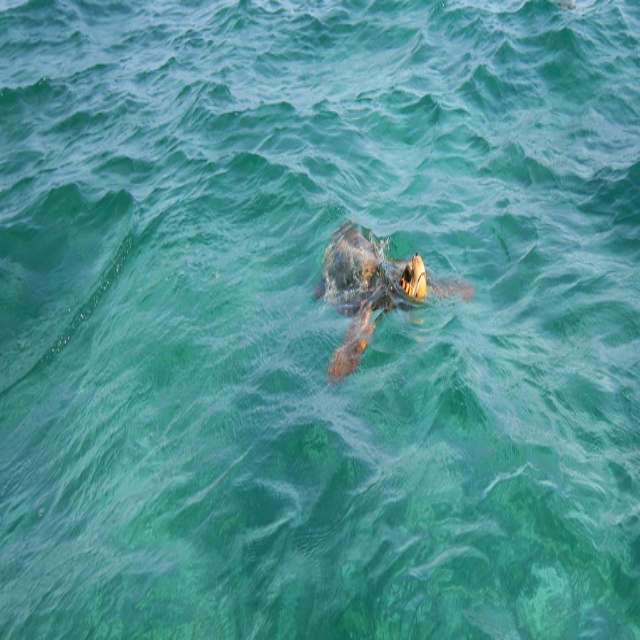Sea turtle: (310, 220, 475, 387)
